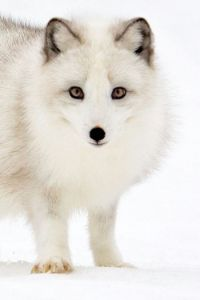fox: (3, 11, 174, 278)
